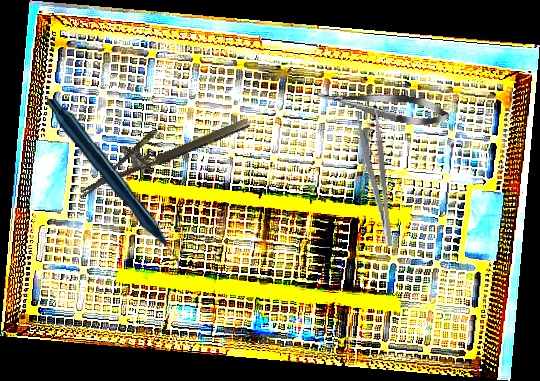Dressing Forceps: (355, 109, 396, 249)
Handpiece: (46, 94, 180, 277)
Micro Scissor: (313, 80, 452, 131)
Needle Holder: (69, 95, 252, 197)
